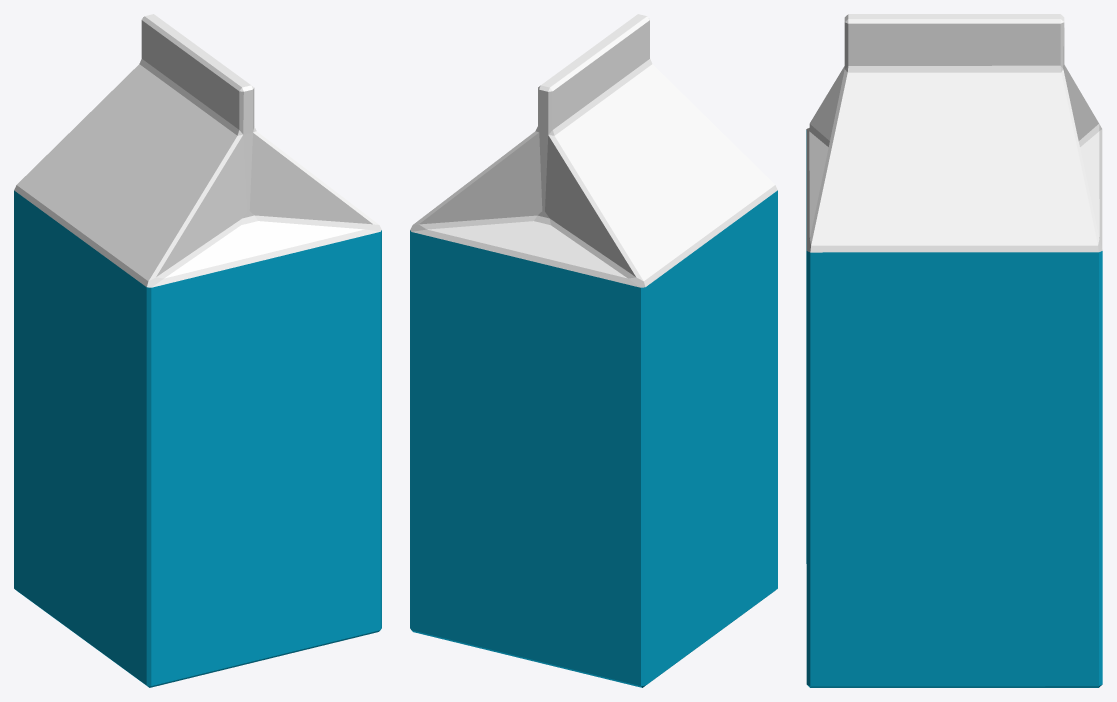
The model's file is Fridgerer_Milk.glb.
3 views of the same model, side by side, from view 1: azimuth 30°, elevation 25°; view 2: azimuth 150°, elevation 25°; view 3: azimuth 270°, elevation 25° (orthographic). The views are drawn at different scales.
Visible parts, largest first — view 1: Milk; view 2: Milk; view 3: Milk.
Boxes of the visible parts, x1,y1,x2,y2 form: Milk: (14,14,381,687); Milk: (410,14,777,687); Milk: (806,14,1102,687).
Size of the model in its own units: 0.1218 by 0.2773 by 0.1218.
Materials: 2 (1 with a texture image).
